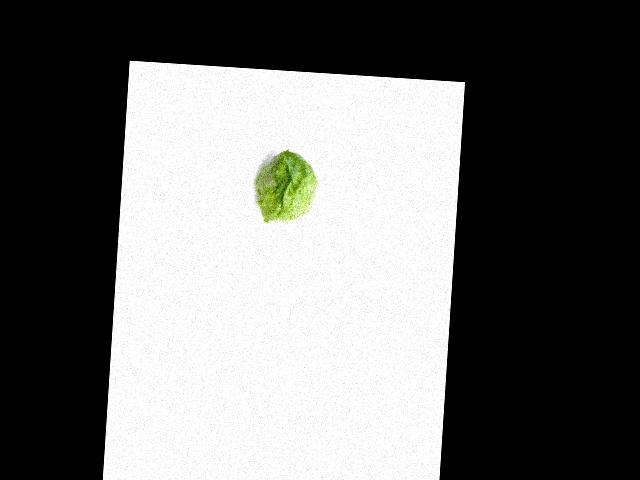lettuce: (249, 148, 323, 225)
